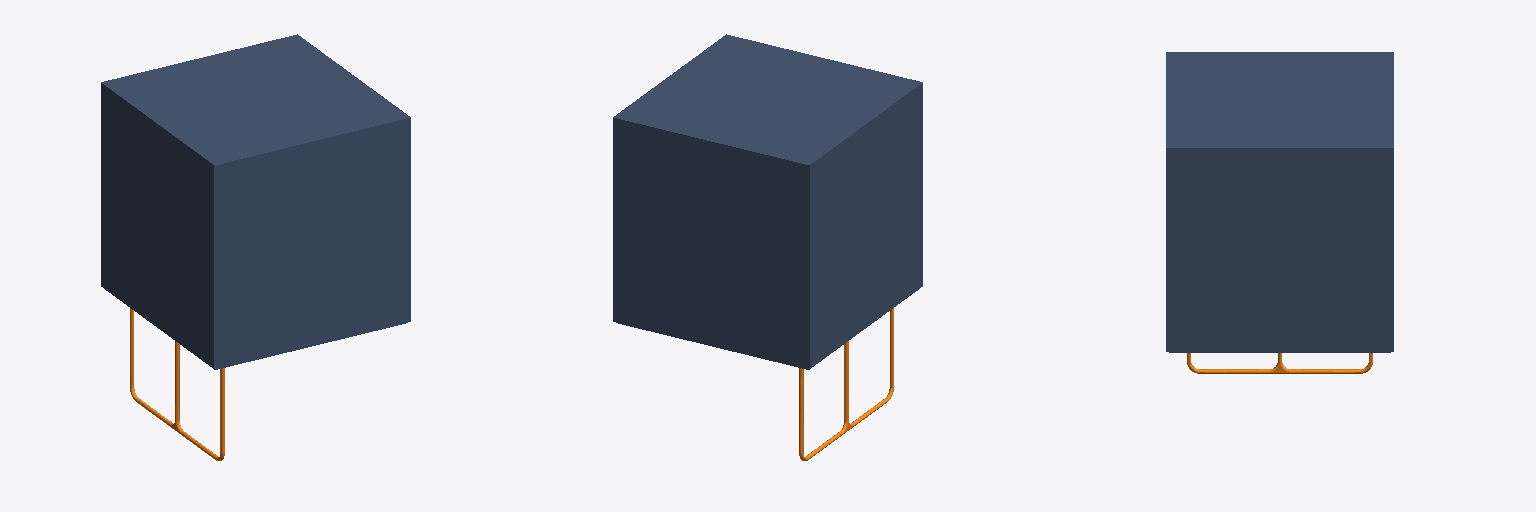
Rendered from 装饰格子2.obj.
3 views of the same model, side by side, from view 1: azimuth 30°, elevation 25°; view 2: azimuth 150°, elevation 25°; view 3: azimuth 270°, elevation 25° (orthographic).
Visible parts, largest first — view 1: 装饰格子2; view 2: 装饰格子2; view 3: 装饰格子2.
Boxes of the visible parts, x1=… form: 装饰格子2: x1=101, y1=34, x2=410, y2=460; 装饰格子2: x1=613, y1=34, x2=922, y2=460; 装饰格子2: x1=1166, y1=52, x2=1393, y2=373.
Size of the model in its own units: 1 by 1.52 by 1.